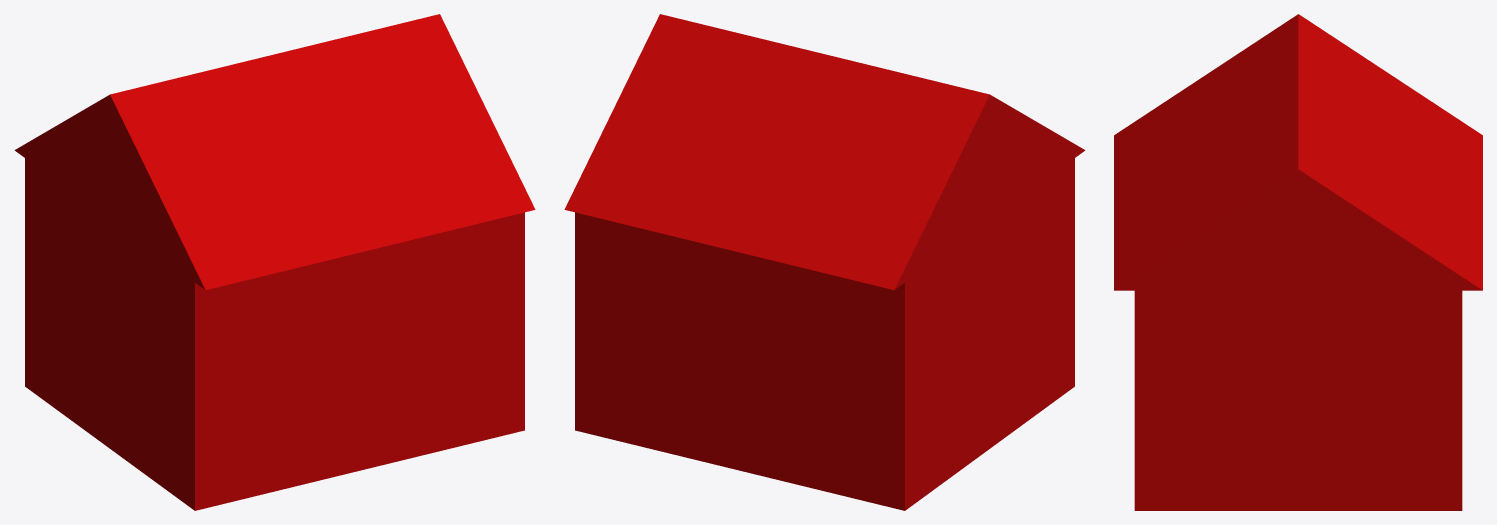
Rendered from Boardgame_Building_Token_Red_01.fbx.
The picture shows the model from 3 angles, left to right: view 1: azimuth 30°, elevation 25°; view 2: azimuth 150°, elevation 25°; view 3: azimuth 270°, elevation 25°; orthographic projection. The views are drawn at different scales.
Parts seen in each view (by area): view 1: Model; view 2: Model; view 3: Model.
Part boxes in pixels (x1=…): Model: x1=14, y1=14, x2=535, y2=510; Model: x1=564, y1=14, x2=1085, y2=510; Model: x1=1114, y1=14, x2=1482, y2=510.
Size of the model in its own units: 136 by 139 by 136.
